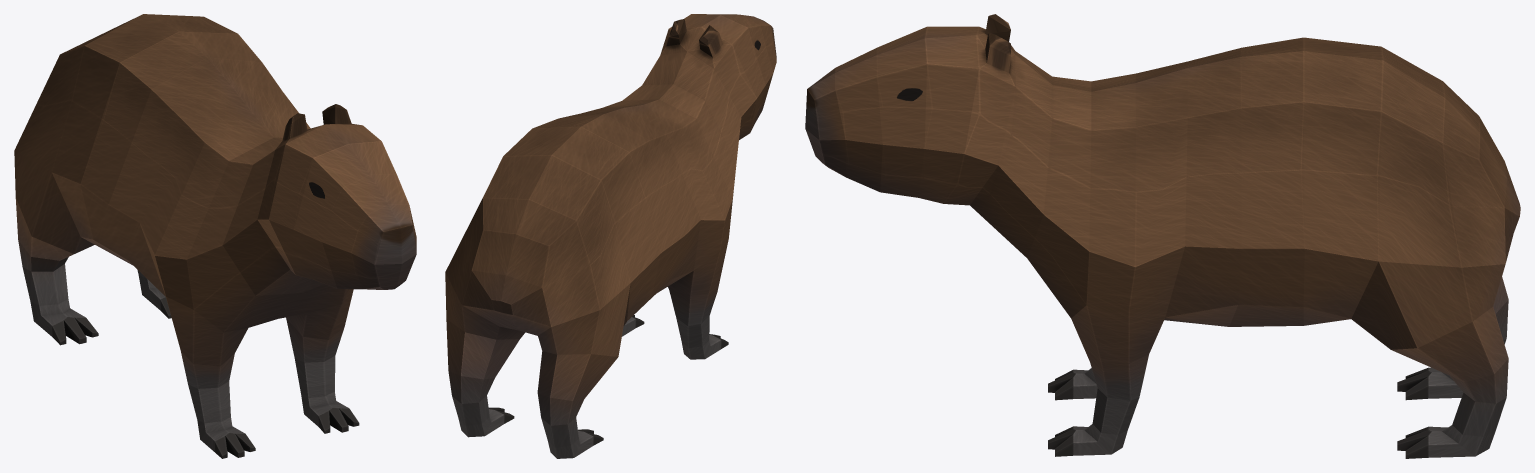
Rendered from capybara.fbx.
3 views of the same model, side by side, from view 1: azimuth 30°, elevation 25°; view 2: azimuth 150°, elevation 25°; view 3: azimuth 270°, elevation 25° (orthographic). The views are drawn at different scales.
Visible parts, largest first — view 1: Capybara:Capybara_mesh; view 2: Capybara:Capybara_mesh; view 3: Capybara:Capybara_mesh.
Boxes of the visible parts, x1,y1,x2,y2 form: Capybara:Capybara_mesh: (14, 14, 416, 458); Capybara:Capybara_mesh: (445, 14, 776, 458); Capybara:Capybara_mesh: (805, 14, 1520, 458).
Size of the model in its own units: 2.57 by 4.35 by 7.15.
